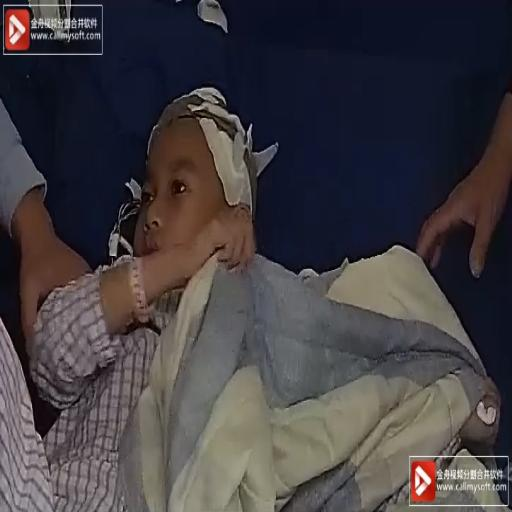Netural: (129, 111, 256, 289)
